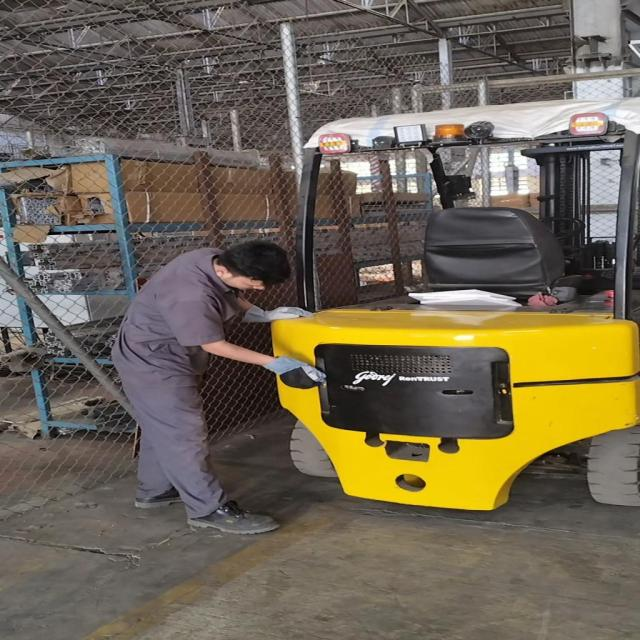Gloves-Detection: (262, 353, 318, 391), (239, 304, 295, 326)
